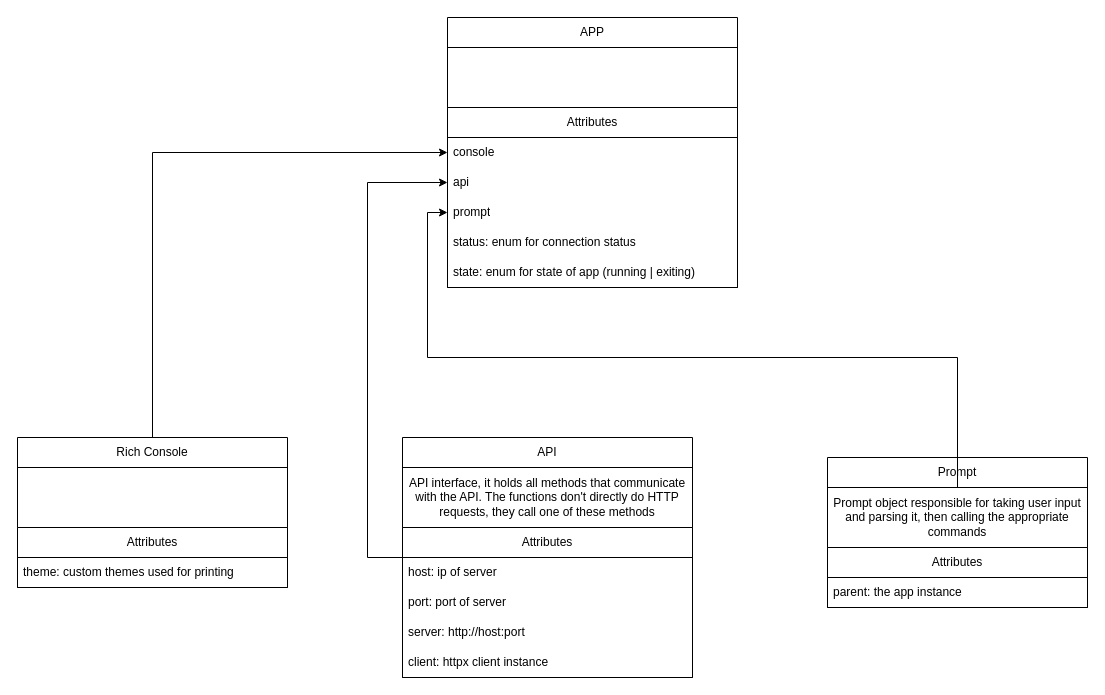
The diagram is 1105 pixels wide and 695 high, and some of its shapes have lost their labels. Each missing label, with the box of its shape:
APP object. This is the overall app, holding all components.: (446, 46, 738, 108)
rich.console.Console object. Everything in the app is printed through this: (16, 466, 288, 528)
